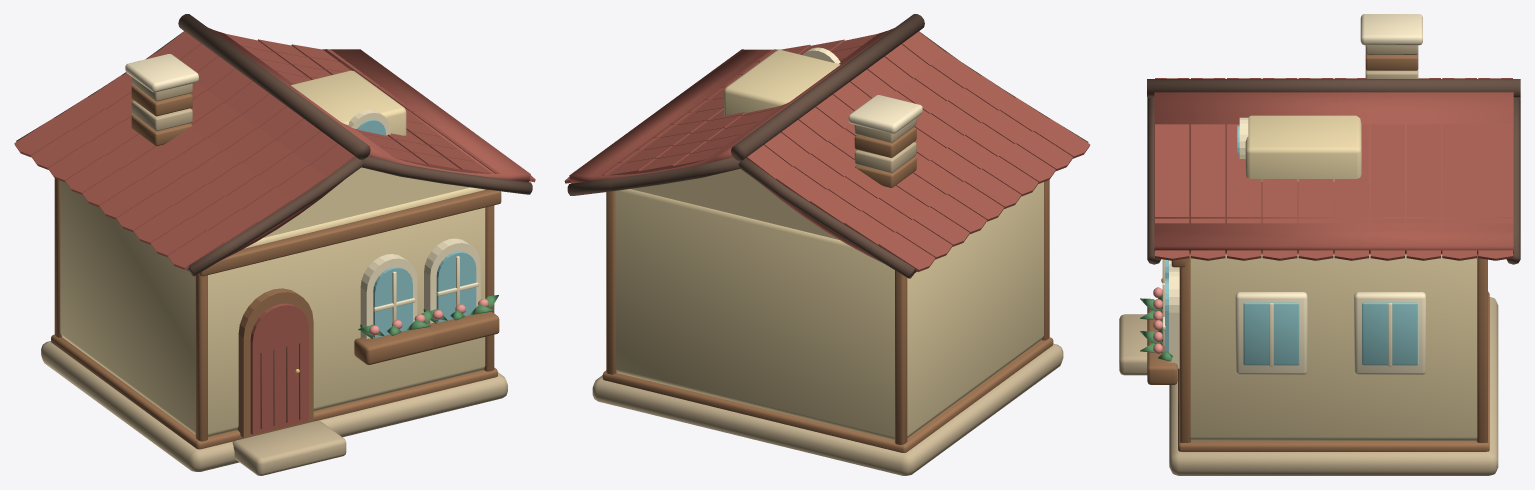
Rendered from house.glb.
3 renders of one model, left to right at view 1: azimuth 30°, elevation 25°; view 2: azimuth 150°, elevation 25°; view 3: azimuth 270°, elevation 25°, orthographic. The views are drawn at different scales.
Visible parts, largest first — view 1: house_crafted_mesh; view 2: house_crafted_mesh; view 3: house_crafted_mesh.
Part boxes in pixels (x1,y1,x2,y2): house_crafted_mesh: (14, 14, 535, 475); house_crafted_mesh: (564, 14, 1090, 475); house_crafted_mesh: (1119, 14, 1520, 475).
Size of the model in its own units: 5 by 4.2 by 4.64.
